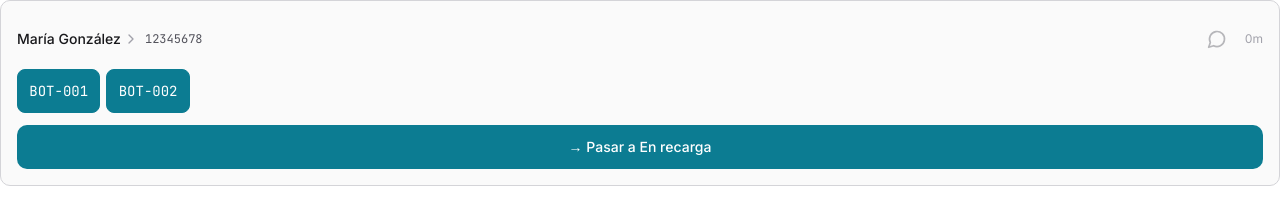
Test: Undo flow — REQ-COS-19 (Slice C) › disables the action with "Elegí al menos un botellón" when zero chips are marked (S4)
Expected: the button "→ Pasar a En recarga" is shown, [17, 125, 1263, 169]
Click the button "BOT-001": (59, 91) [17, 69, 100, 113]
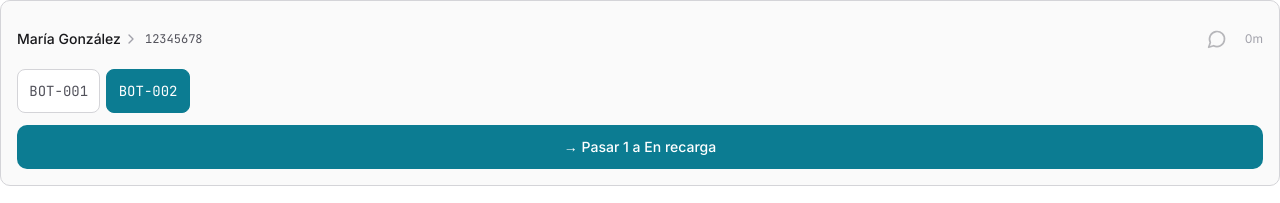
Click the button "BOT-002": (148, 91) [106, 69, 190, 113]
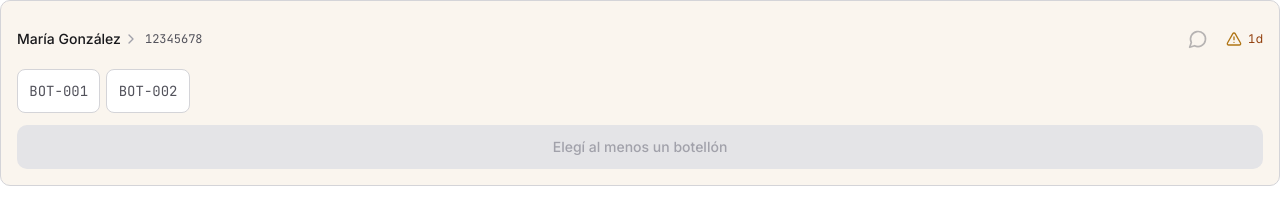
Now the button "Elegí al menos un botellón" is disabled, box [17, 125, 1263, 169]
